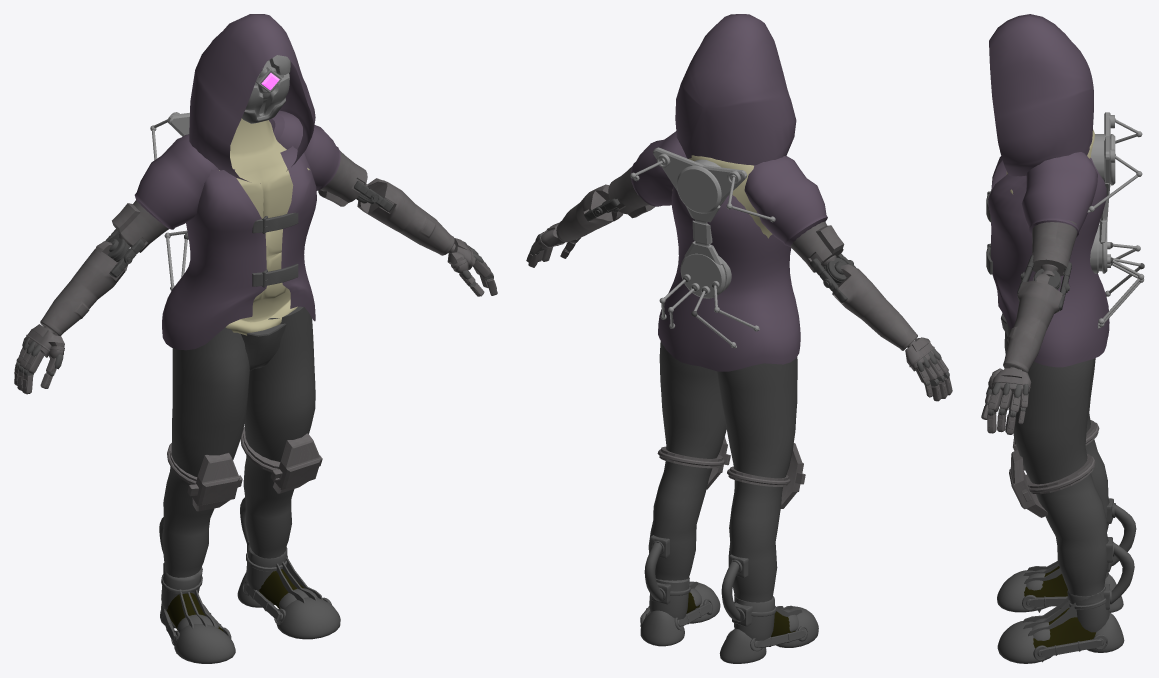
Rendered from cyberpunk_robot.glb.
3 renders of one model, left to right at view 1: azimuth 30°, elevation 25°; view 2: azimuth 150°, elevation 25°; view 3: azimuth 270°, elevation 25°, orthographic. The views are drawn at different scales.
Parts seen in each view (by area): view 1: polySurface21; view 2: polySurface21; view 3: polySurface21.
Boxes of the visible parts, x1,y1,x2,y2 form: polySurface21: (14,14,497,663); polySurface21: (526,14,952,663); polySurface21: (981,14,1144,663).
Size of the model in its own units: 142 by 190 by 45.72.
Materials: 12 (2 with a texture image).
